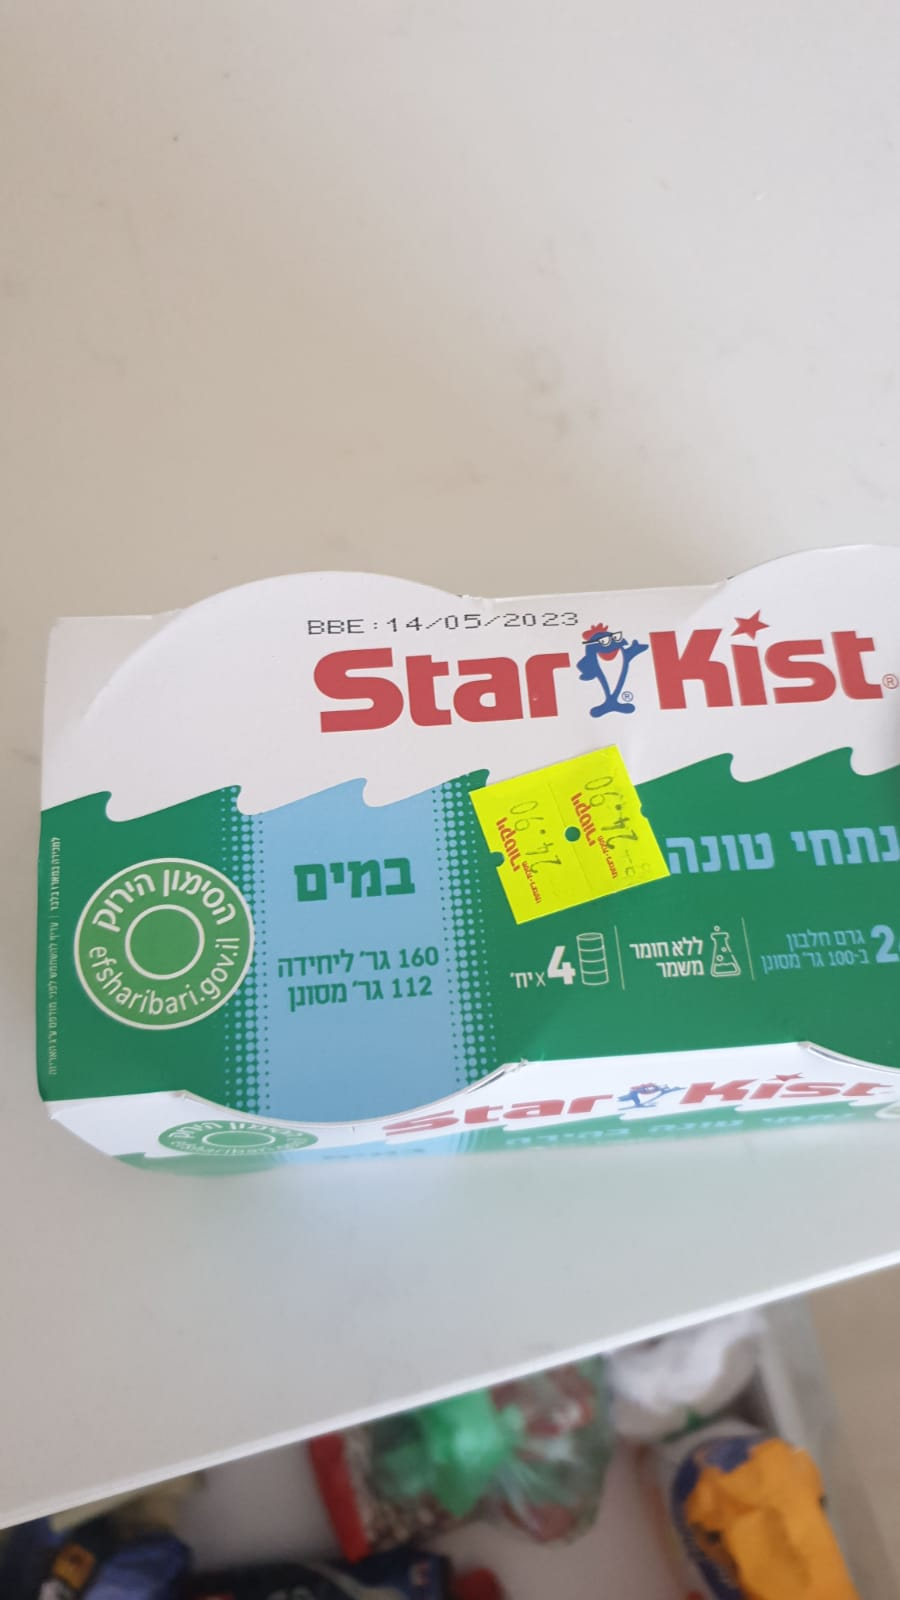green: (74, 856, 252, 1030)
